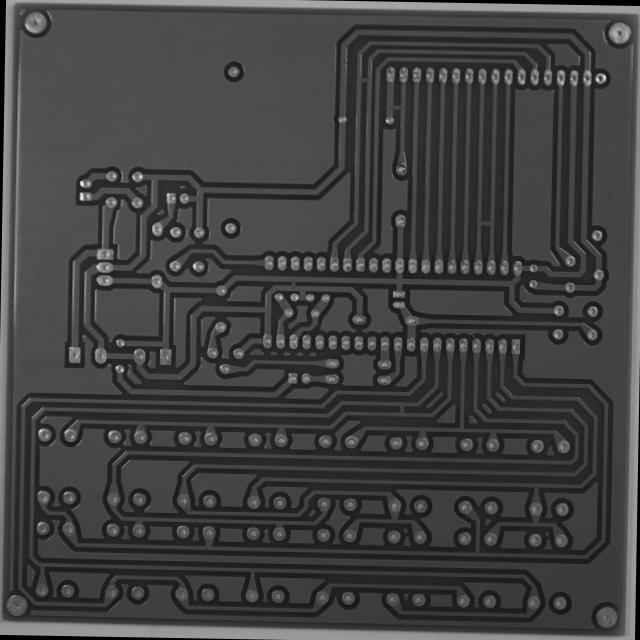short: (472, 214, 494, 232), (352, 72, 374, 87), (384, 101, 406, 116), (392, 400, 408, 418), (286, 272, 300, 291)
